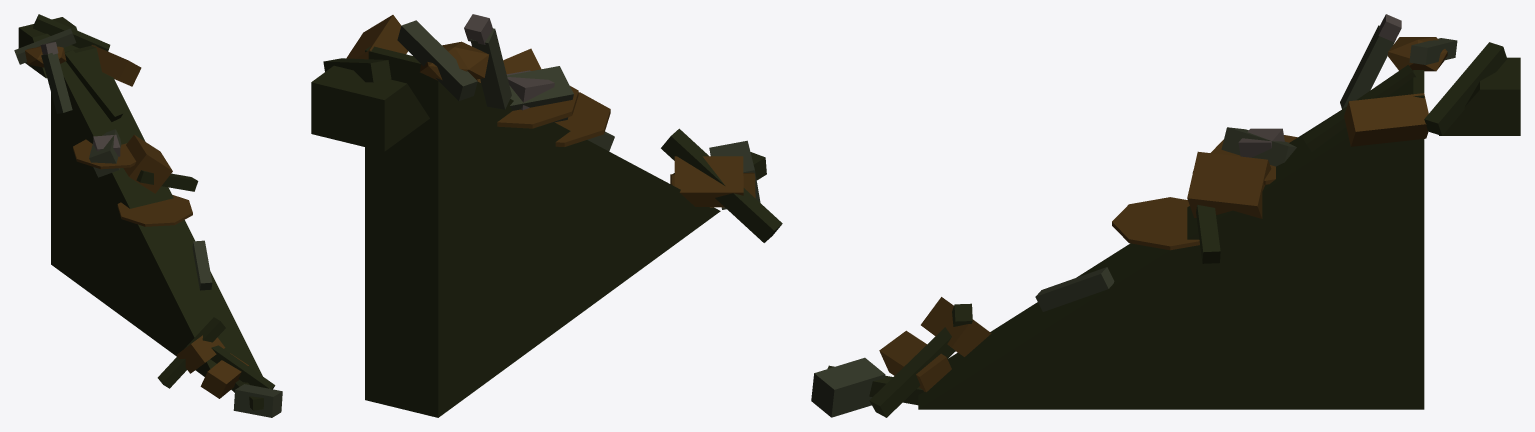
File: SM_PilaZombi_Altura5_s1_LOD1.fbx
3 views of the same model, side by side, from view 1: azimuth 30°, elevation 25°; view 2: azimuth 150°, elevation 25°; view 3: azimuth 270°, elevation 25° (orthographic). The views are drawn at different scales.
Parts seen in each view (by area): view 1: SM_pila_zombis_v9_LOD1; view 2: SM_pila_zombis_v9_LOD1; view 3: SM_pila_zombis_v9_LOD1.
Part boxes in pixels (x1=…): SM_pila_zombis_v9_LOD1: x1=14, y1=14, x2=282, y2=417; SM_pila_zombis_v9_LOD1: x1=311, y1=14, x2=782, y2=417; SM_pila_zombis_v9_LOD1: x1=811, y1=14, x2=1520, y2=417.
Size of the model in its own units: 1.43 by 2.78 by 4.87.
